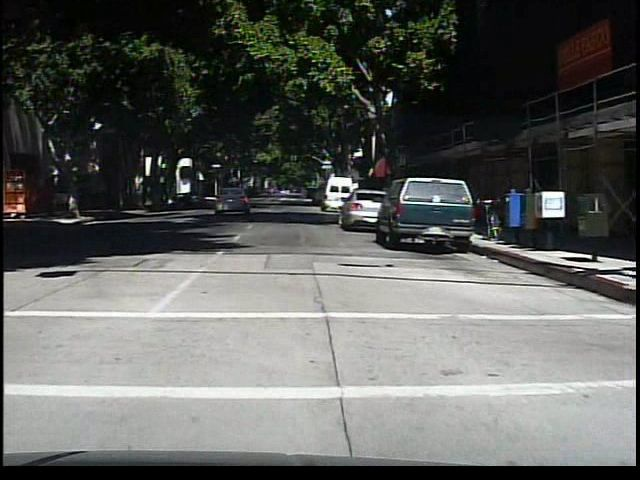person: (61, 179, 78, 219), (294, 180, 311, 206)
